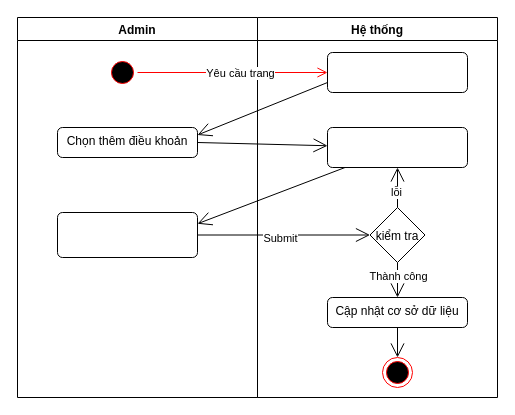
The diagram is 515 pixels wide and 415 high, and some of its shapes have lost their labels. The centre of each missing label's shape, as x and y in pixels:
Hiển thị form theo yêu cầu: the point at 397,147
Hiển thị trang quản lý điều khoản: the point at 397,72
Nhập thông tin điều khoản: the point at 127,235
